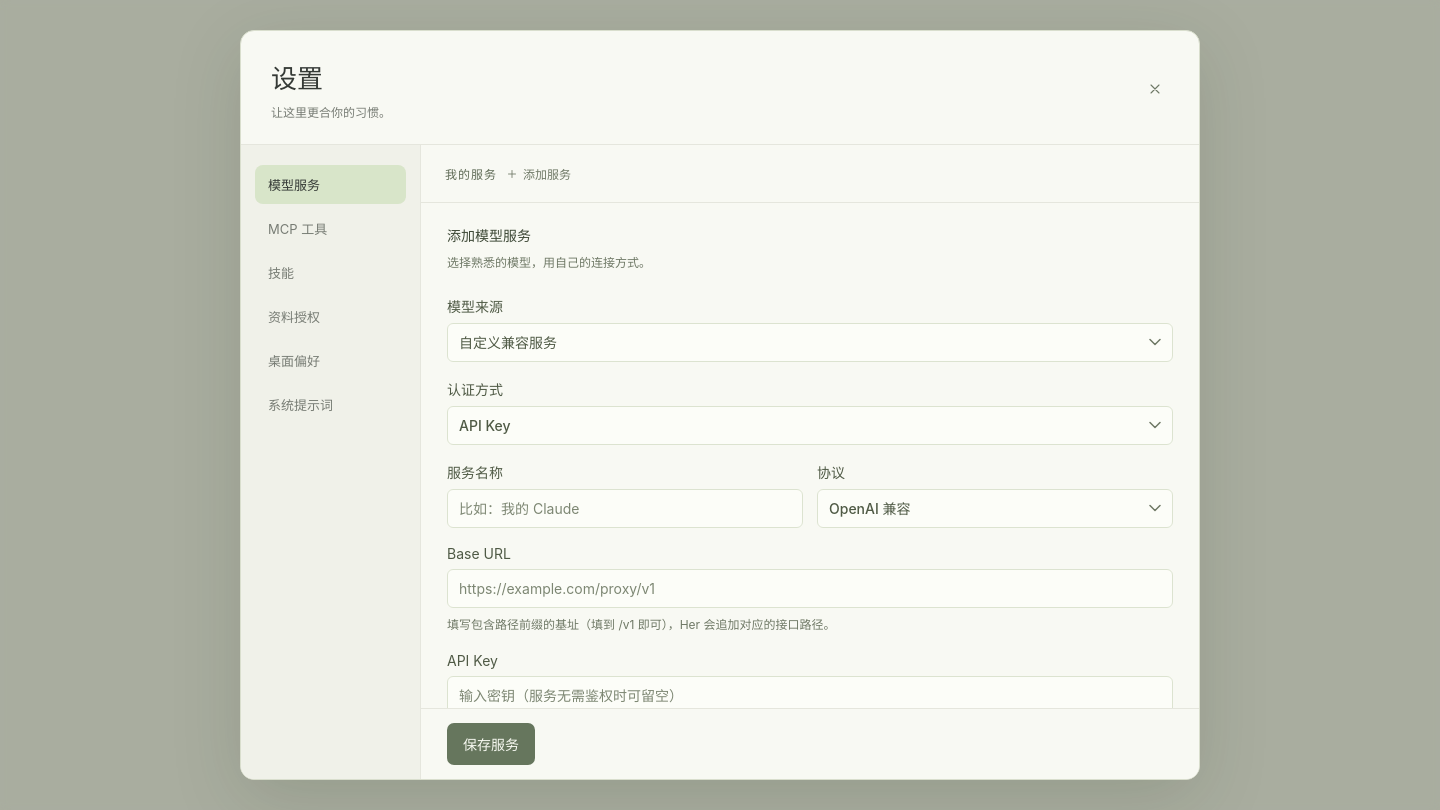
Test: opens an independent skill list, displays original content and persists toggles
Click the tab "技能". click: (330, 272)
box: [255,253,406,292]
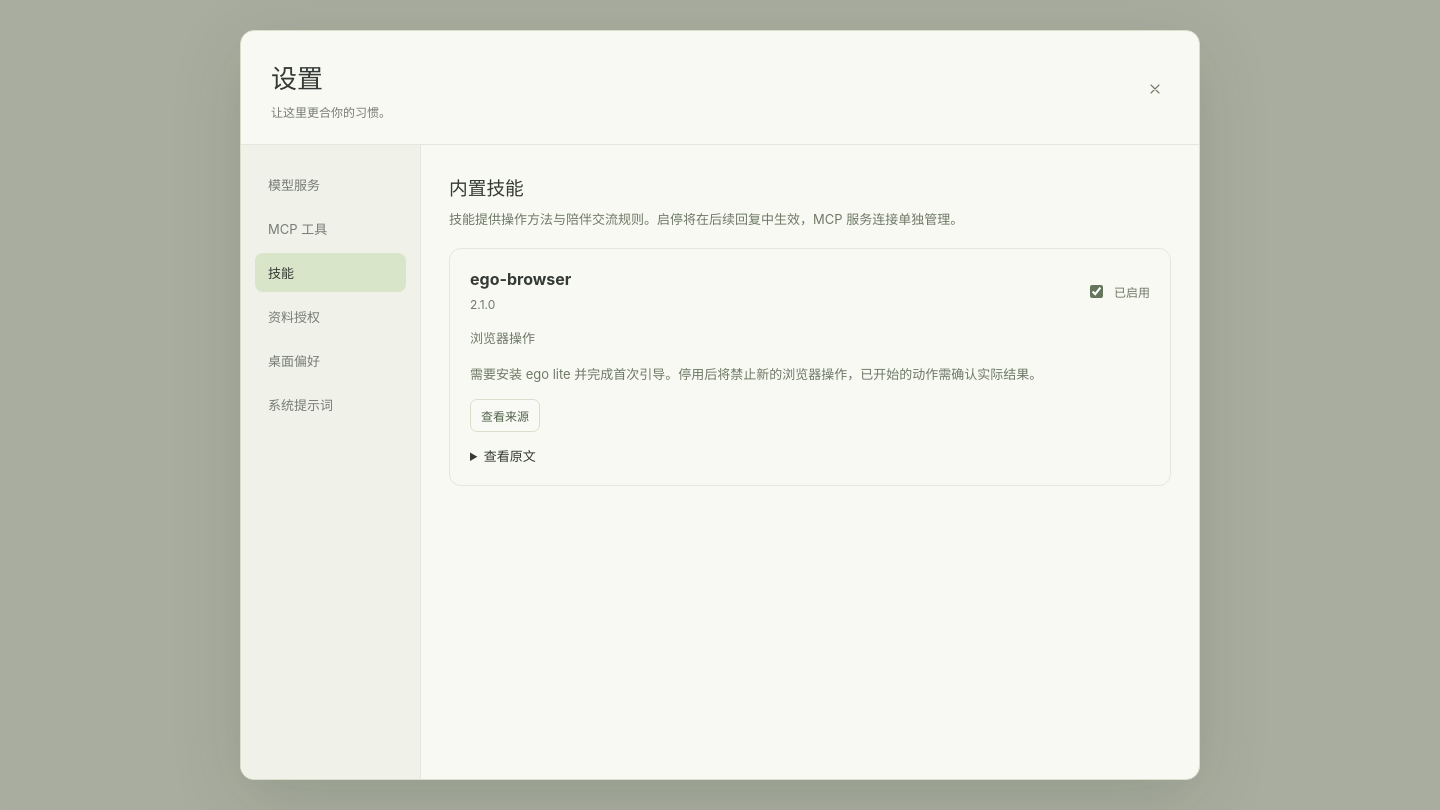
Now the text "2.1.0" is shown, box [470,297,495,312]
Now the checkbox named "启用 ego-browser" is checked, box [1090,285,1103,298]
Click the heading "查看原文". click: (510, 456)
box: [484,448,536,464]
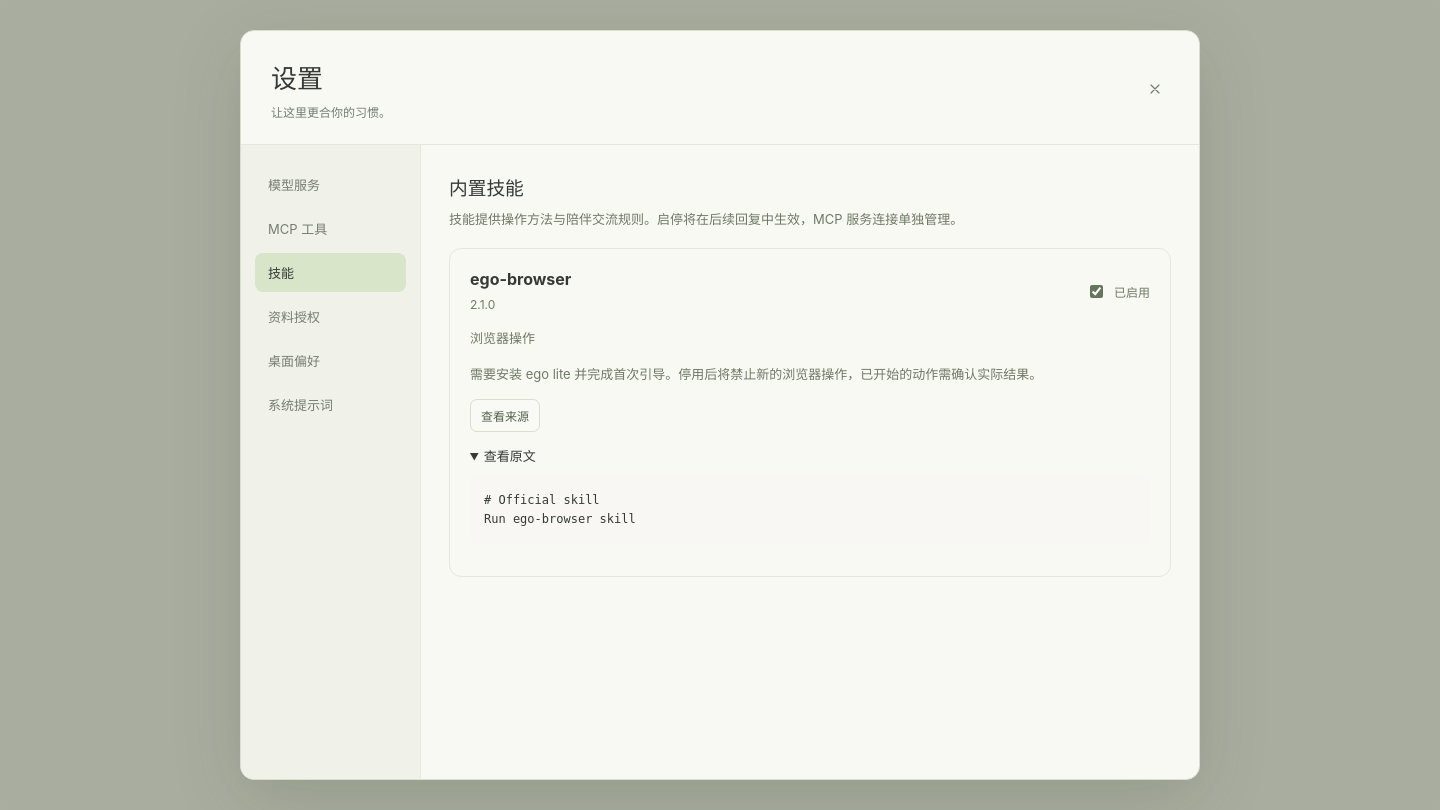
Click the checkbox named "启用 ego-browser". click: (1096, 291)
box: [1090,285,1103,298]
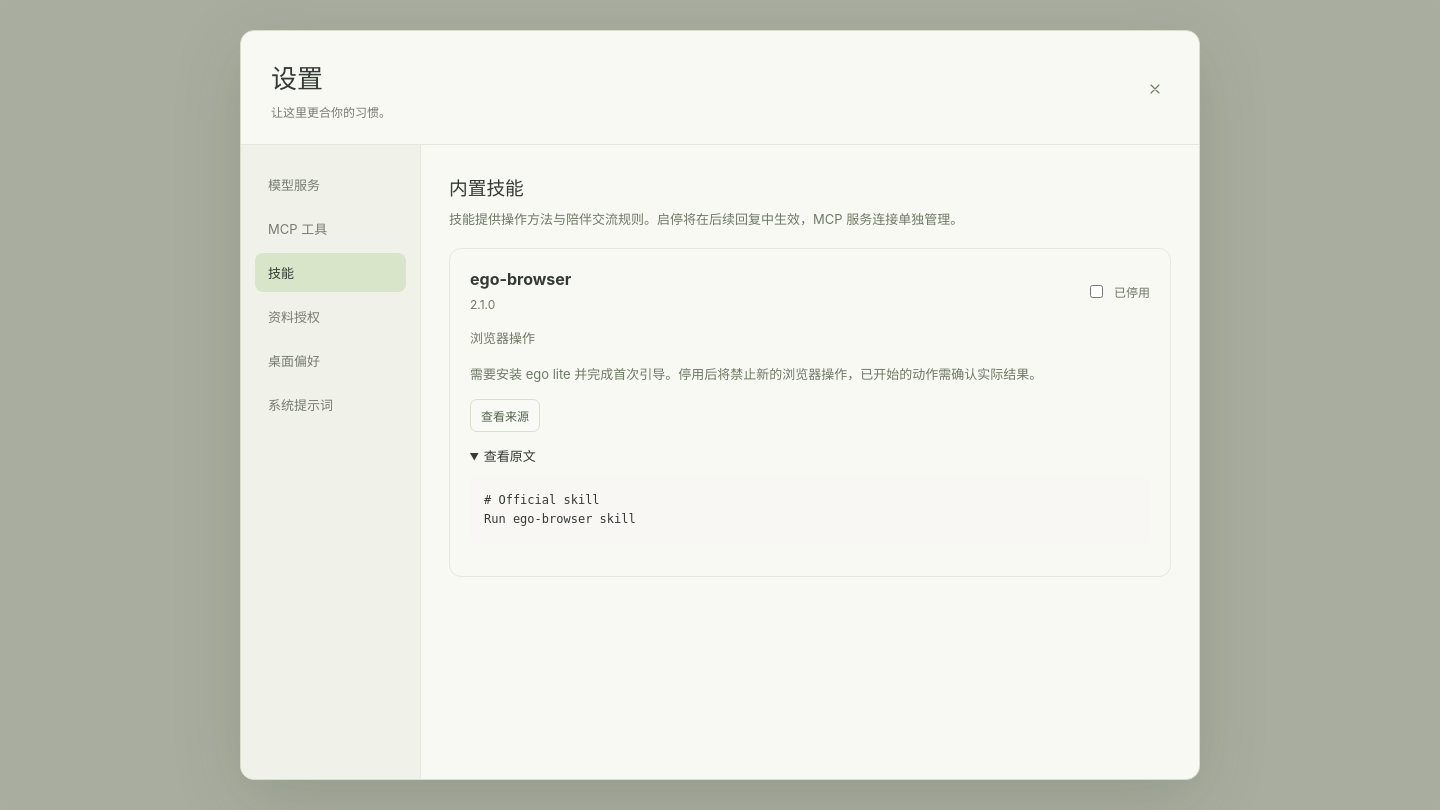
Now the checkbox is not checked, box [1090,285,1103,298]
Now the text "已停用" is shown, box [1086,282,1150,301]
